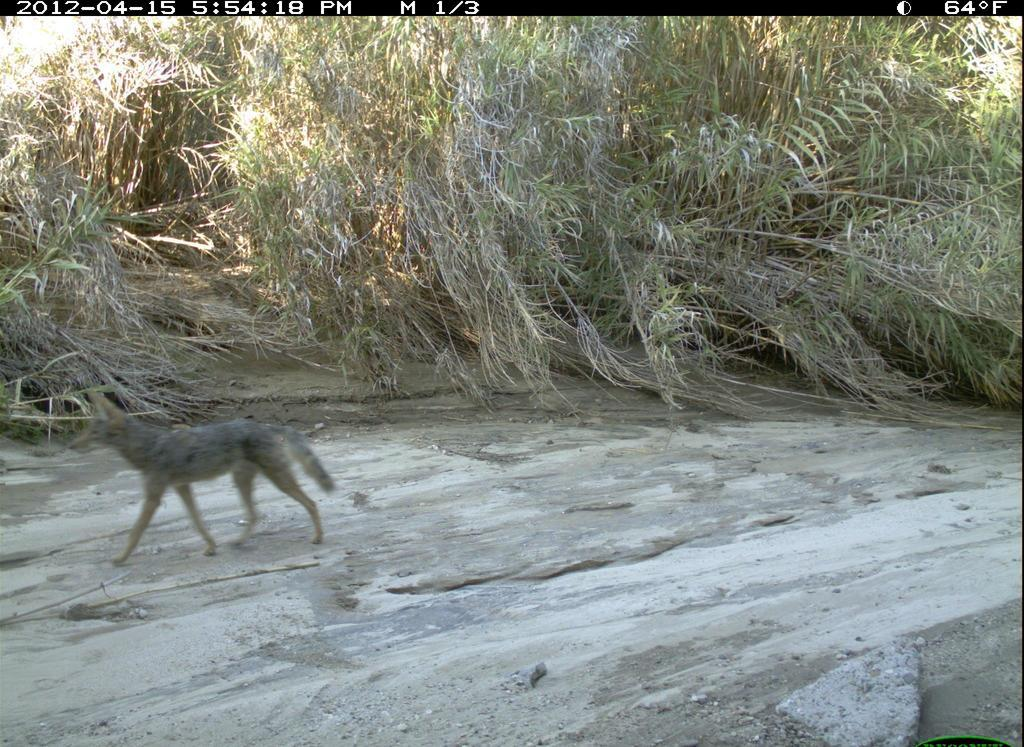coyote: (66, 386, 341, 564)
